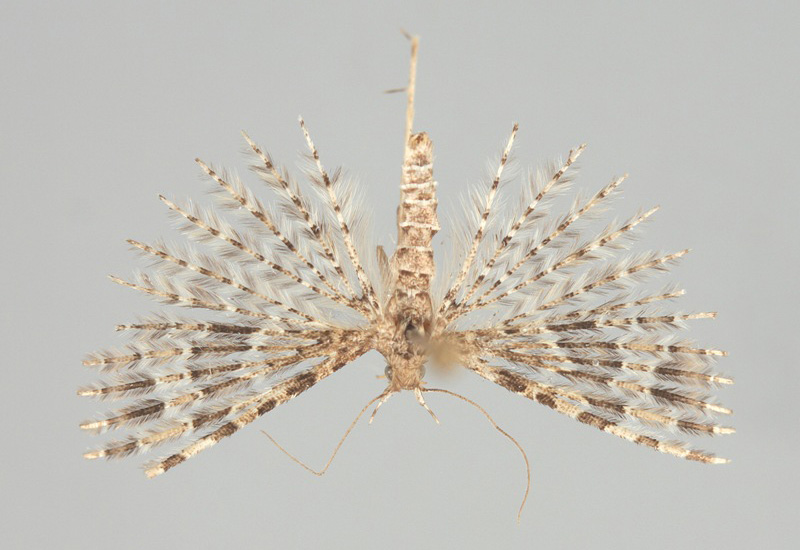Alucitidae: (79, 21, 735, 514)
moth: (81, 23, 737, 516)
